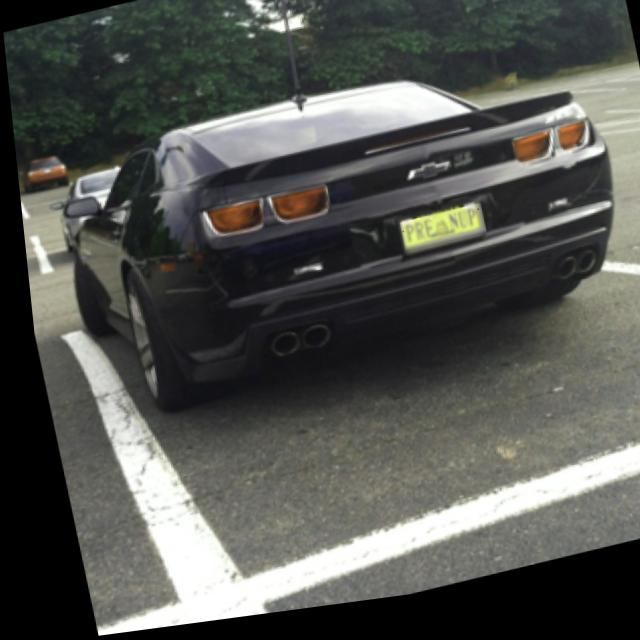license_plate: (393, 216, 481, 263)
